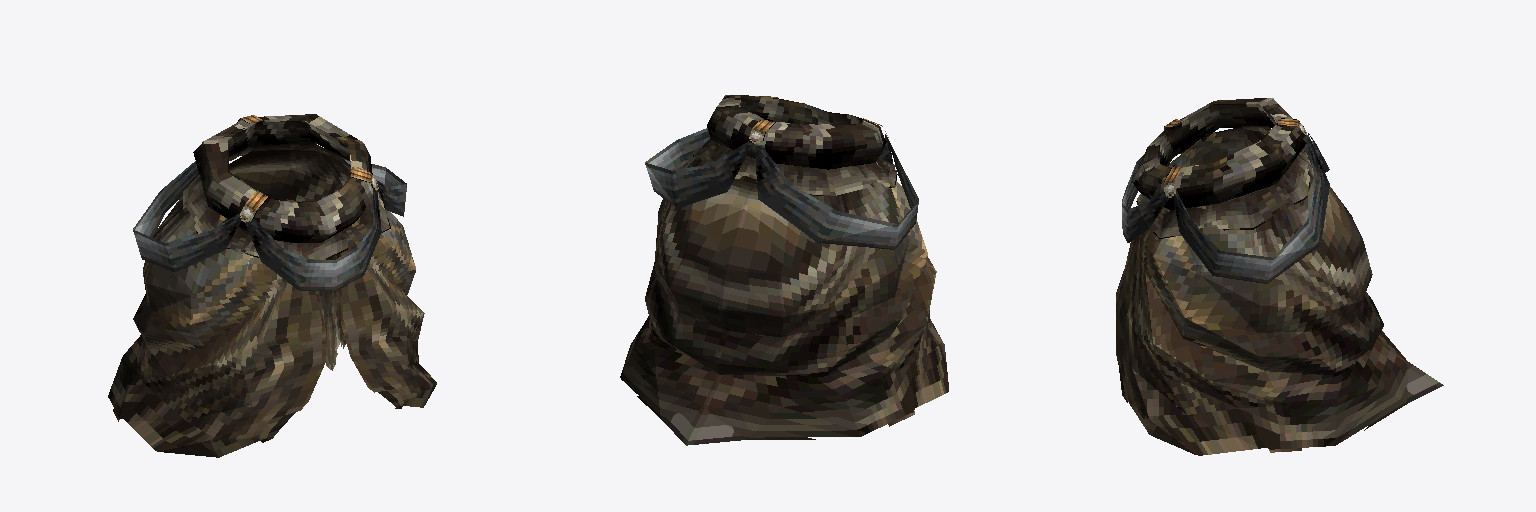
3 renders of one model, left to right at view 1: azimuth 30°, elevation 25°; view 2: azimuth 150°, elevation 25°; view 3: azimuth 270°, elevation 25°, orthographic.
Parts seen in each view (by area): view 1: mesh00; view 2: mesh00; view 3: mesh00.
Boxes of the visible parts, box(x1,y1,x2,y2) form: mesh00: box(108, 114, 436, 457); mesh00: box(620, 95, 948, 445); mesh00: box(1116, 98, 1443, 455).
Size of the model in its own units: 76.97 by 68.84 by 76.21.
1 materials, 1 textured.